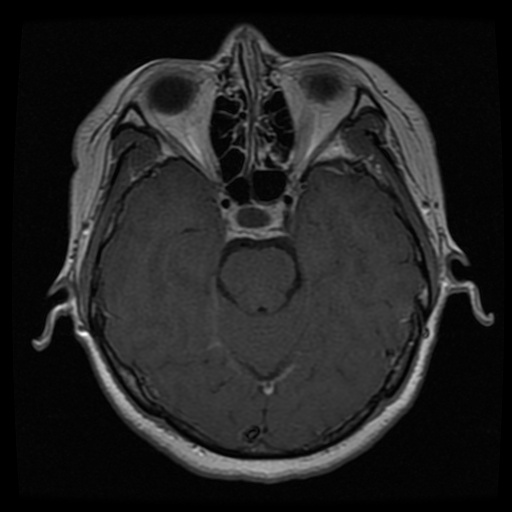pituitary: (223, 199, 285, 238)
